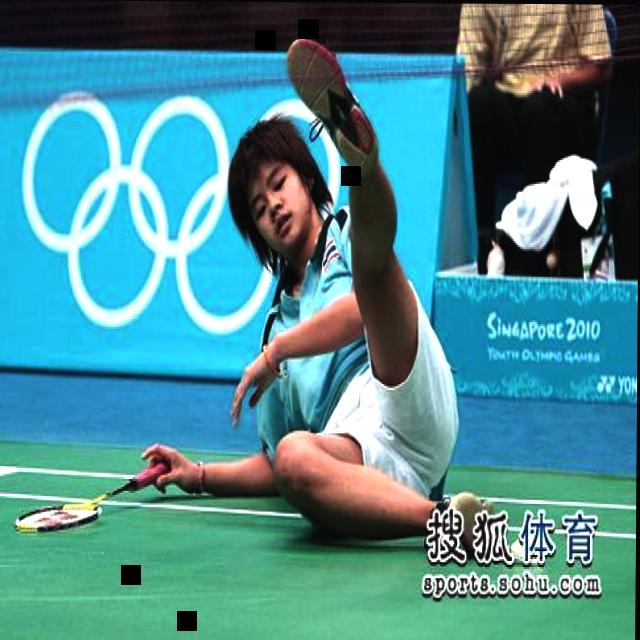Fall-Detected: (131, 21, 492, 578)
